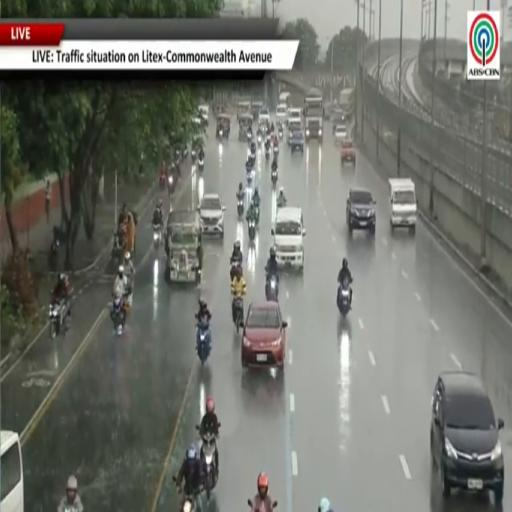bus: (0, 430, 23, 511)
car: (430, 371, 504, 505), (241, 301, 287, 369), (346, 188, 376, 234), (198, 193, 225, 238), (340, 139, 355, 166), (287, 119, 303, 143), (332, 108, 346, 134), (289, 131, 304, 153), (334, 125, 348, 143), (287, 107, 302, 123), (276, 104, 287, 123), (259, 106, 270, 124)
jeepney: (239, 114, 253, 141), (216, 114, 230, 139), (237, 101, 251, 120), (252, 101, 263, 121)
motorcycle: (200, 432, 218, 499), (197, 320, 211, 364), (337, 279, 351, 317), (111, 297, 125, 335), (49, 302, 63, 339), (111, 230, 124, 264), (48, 237, 59, 270), (233, 296, 243, 332), (266, 276, 278, 301), (248, 499, 271, 511), (180, 494, 196, 511), (230, 261, 242, 281), (153, 224, 161, 249), (237, 198, 244, 217), (249, 220, 255, 242), (277, 196, 287, 209), (168, 175, 174, 196), (246, 168, 253, 185), (159, 174, 166, 190), (271, 170, 278, 186), (255, 205, 260, 227), (198, 158, 203, 172), (246, 132, 253, 142), (249, 152, 255, 163), (191, 150, 196, 163), (278, 127, 283, 139), (273, 146, 279, 156), (265, 147, 269, 161), (257, 135, 261, 145), (219, 130, 223, 138)
truck: (165, 211, 201, 283), (389, 179, 417, 233), (304, 88, 323, 141)
